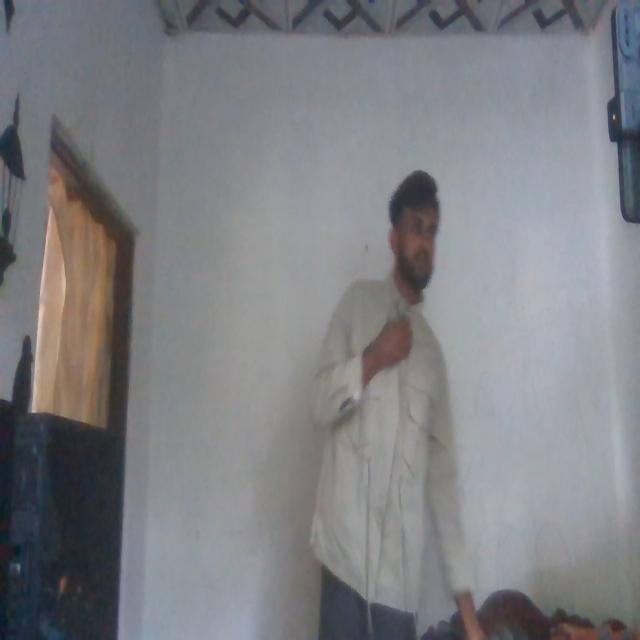Jacket_Wearer: (308, 273, 463, 614)
Person: (310, 170, 459, 640)
